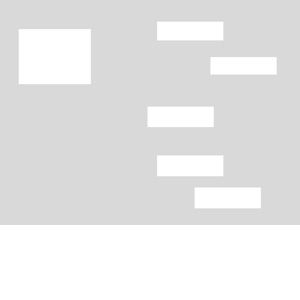square: (16, 27, 91, 85), (155, 152, 225, 177), (145, 105, 216, 129), (193, 186, 262, 210), (209, 55, 278, 76), (155, 21, 225, 40)
